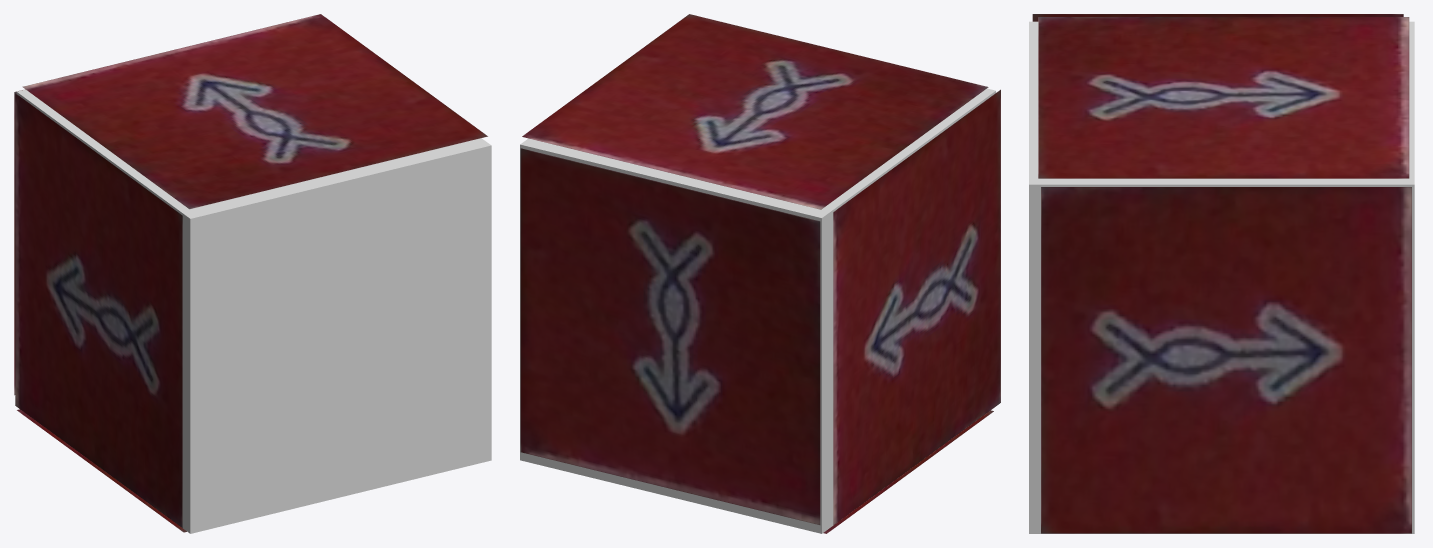
3 views of the same model, side by side, from view 1: azimuth 30°, elevation 25°; view 2: azimuth 150°, elevation 25°; view 3: azimuth 270°, elevation 25° (orthographic). The views are drawn at different scales.
Visible parts, largest first — view 1: Link28, R1.002, R1.004, R1.005, R1.001; view 2: R1.001, R1.002, R1.004, Link28, R1.005; view 3: R1.003, R1.004, Link28, R1.002.
Boxes of the visible parts, box(x1,y1,x2,y2) form: Link28: box(16, 89, 491, 533); R1.002: box(15, 93, 182, 527); R1.004: box(22, 14, 487, 209); R1.005: box(17, 409, 186, 532); R1.001: box(14, 89, 25, 395); R1.001: box(520, 148, 820, 524); R1.002: box(833, 89, 1000, 524); R1.004: box(522, 14, 988, 209); Link28: box(520, 88, 995, 533); R1.005: box(823, 410, 993, 533); R1.003: box(1041, 187, 1411, 533); R1.004: box(1038, 17, 1409, 178); Link28: box(1029, 21, 1414, 533); R1.002: box(1032, 14, 1403, 21).
Bounding box in the file's own units: 0.3585 × 0.3539 × 0.3577.
Materials: 1 (1 with a texture image).
